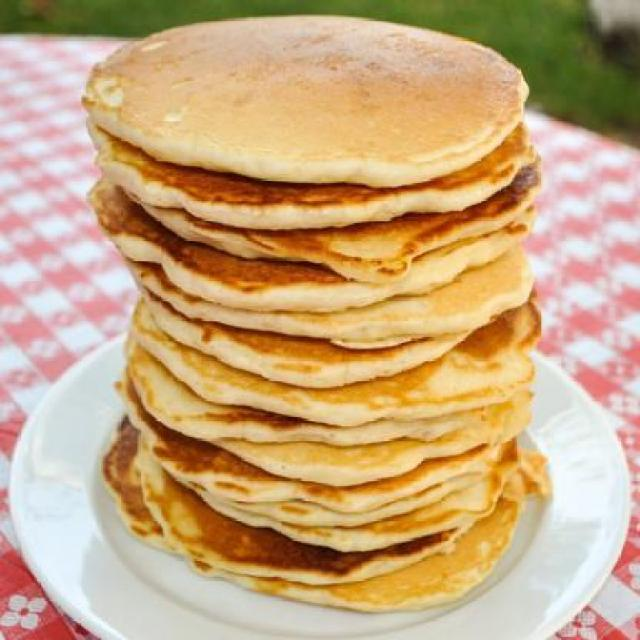Pancake: (83, 117, 554, 611), (83, 15, 526, 186)
